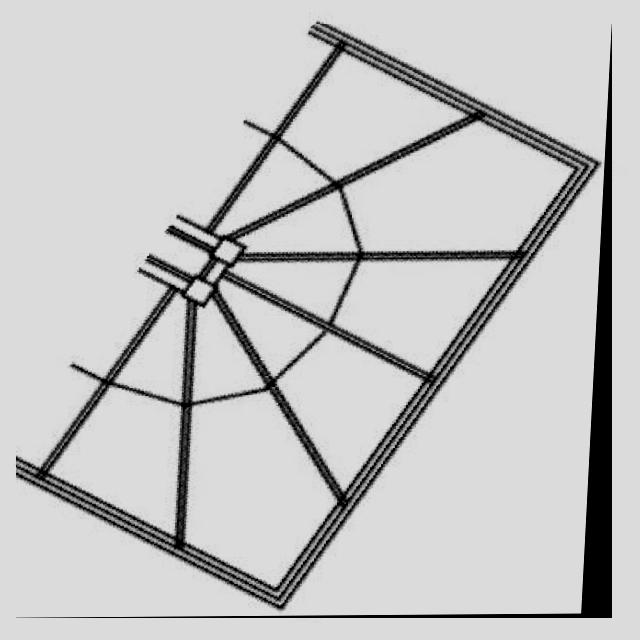stair: (16, 24, 612, 618)
